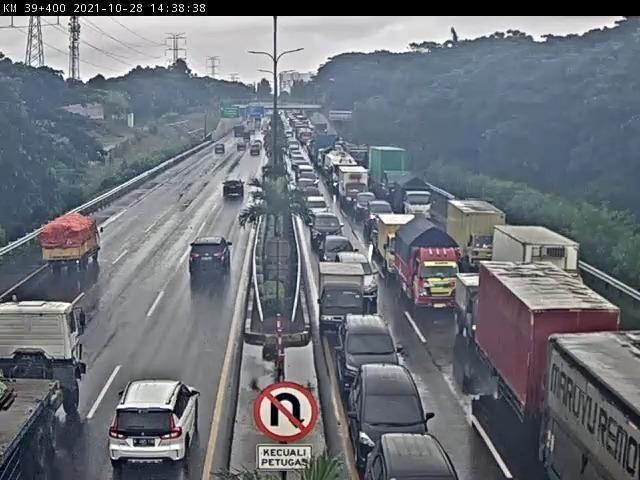car: (107, 362, 195, 474), (340, 364, 447, 454), (360, 439, 483, 480), (341, 314, 405, 385), (188, 234, 240, 288), (338, 253, 380, 303), (370, 201, 397, 242), (315, 215, 345, 251), (326, 237, 361, 266), (306, 196, 333, 227), (355, 194, 381, 217), (223, 178, 245, 200), (299, 179, 317, 188), (304, 172, 320, 180)
truck: (475, 260, 623, 447), (2, 294, 85, 480), (553, 329, 640, 480), (394, 224, 462, 314), (33, 208, 119, 279), (494, 225, 569, 298), (319, 265, 387, 338), (450, 203, 509, 280), (380, 217, 426, 282), (461, 270, 498, 337), (325, 150, 363, 196), (397, 179, 437, 221), (341, 170, 371, 202)
